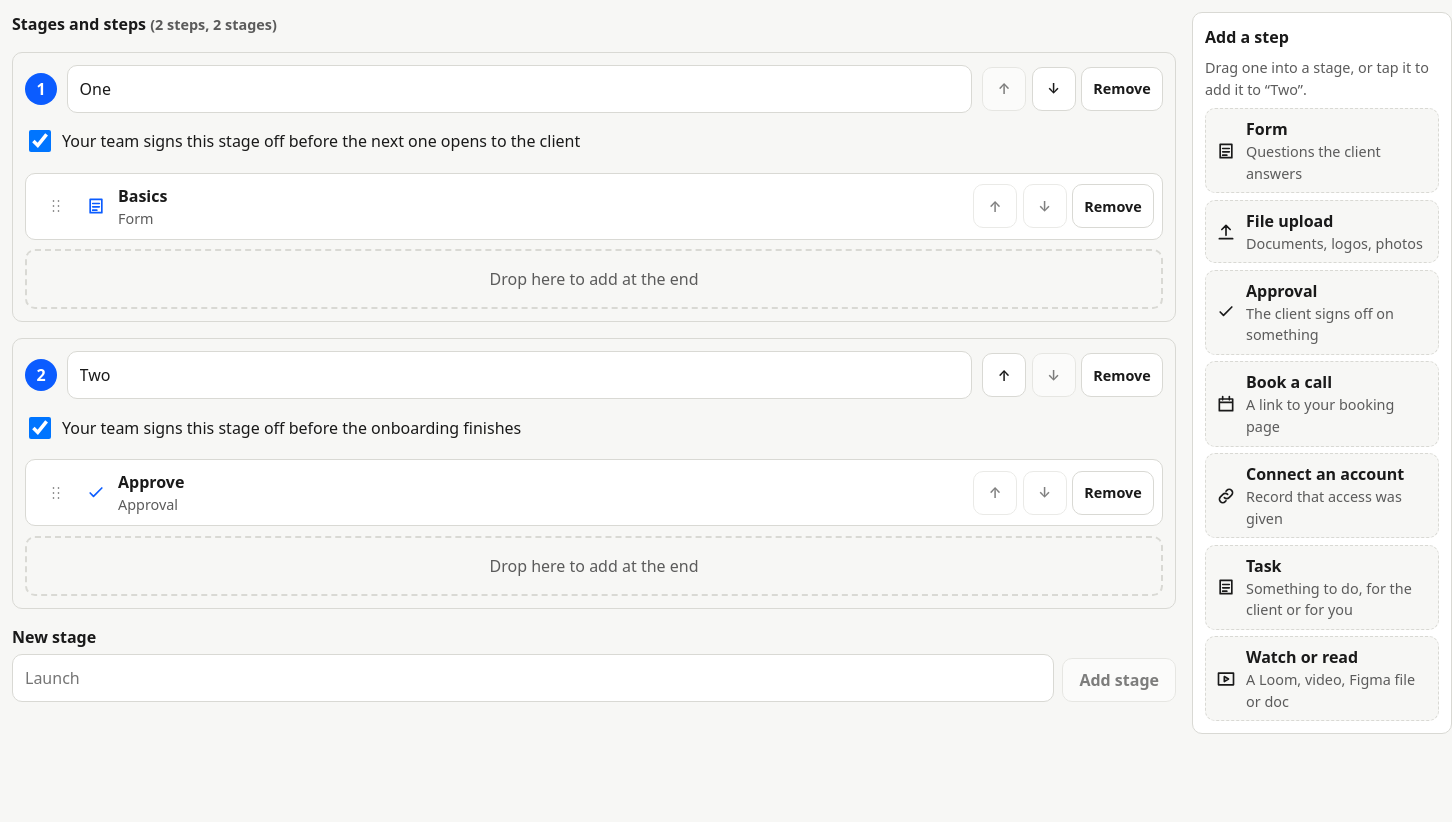
StepsBuilder › moving a stage moves its steps with it
Click the button named "Move stage “Two” up" at (1004,375), box [982,353,1026,397]
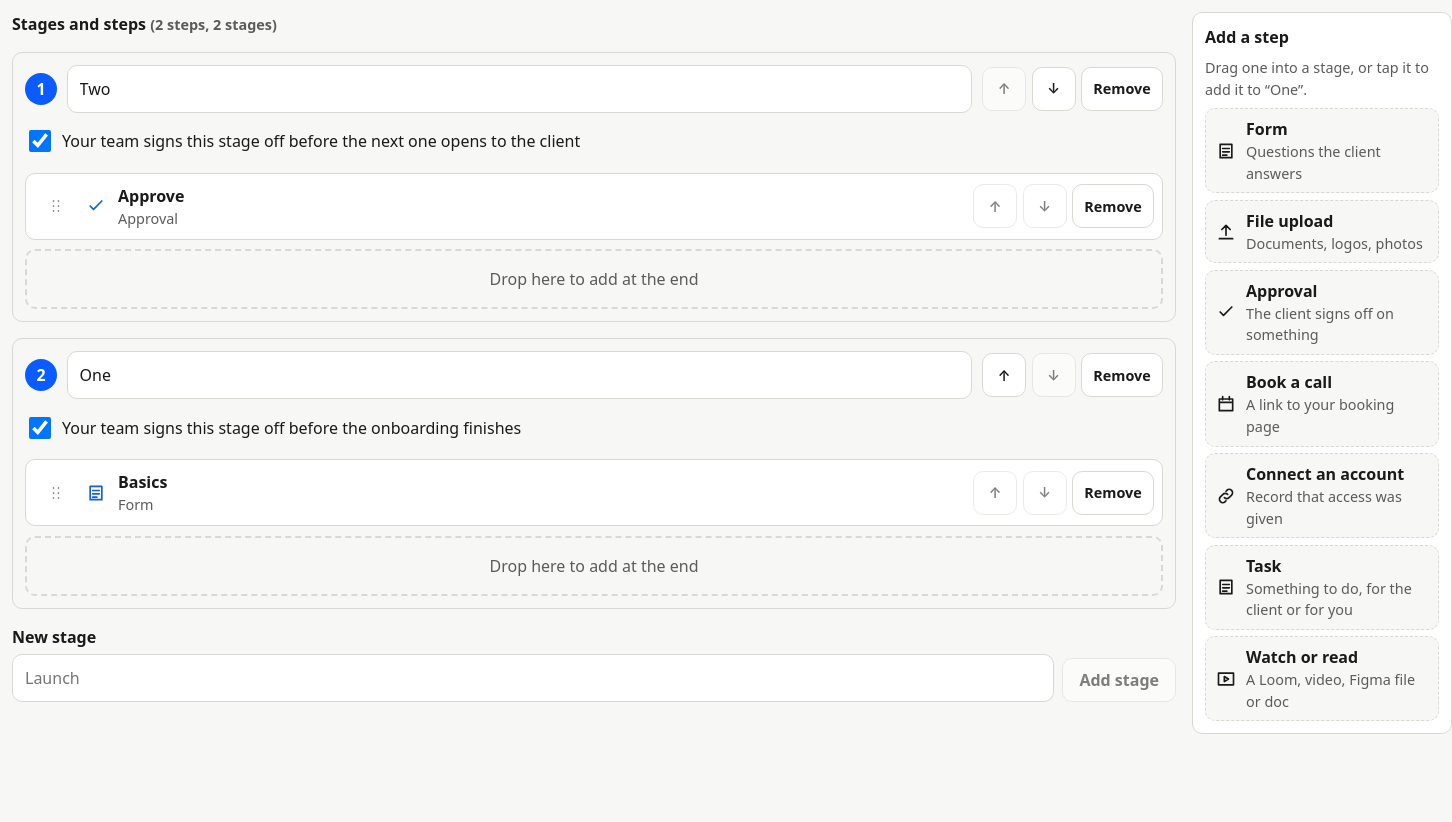
Check: the element named "Stage 1: Two" is shown, box [12,52,1176,322]
